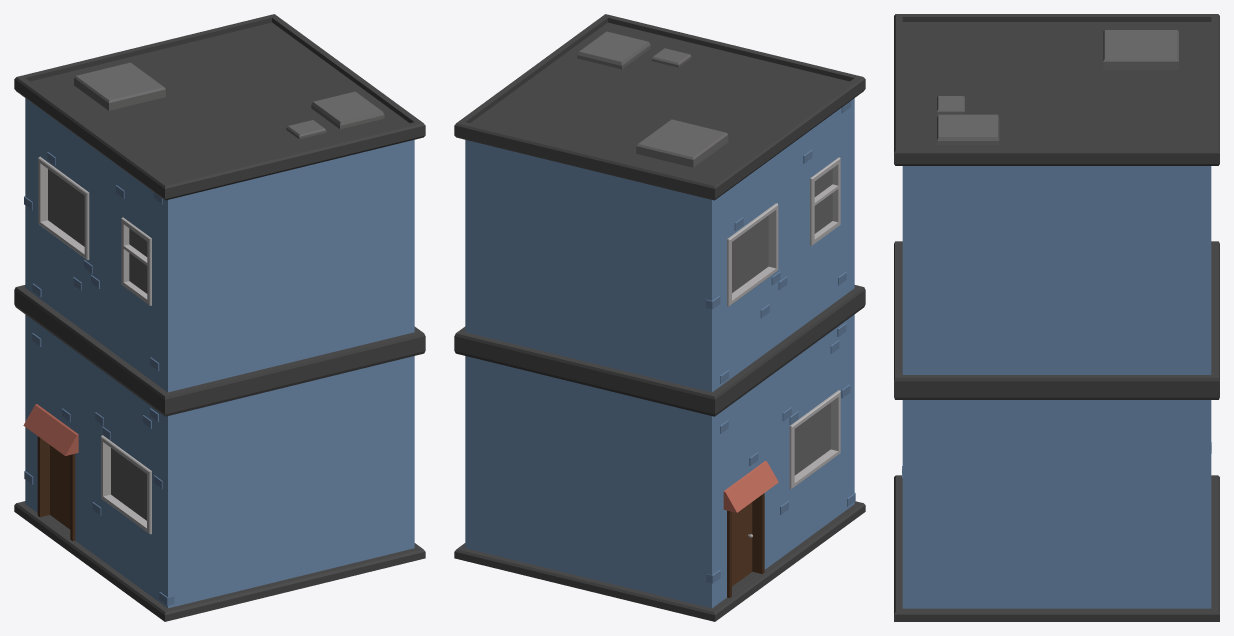
The model's file is City_Building2.fbx.
3 views of the same model, side by side, from view 1: azimuth 30°, elevation 25°; view 2: azimuth 150°, elevation 25°; view 3: azimuth 270°, elevation 25° (orthographic). The views are drawn at different scales.
Parts seen in each view (by area): view 1: House_2; view 2: House_2; view 3: House_2.
Boxes of the visible parts, <box> form: House_2: <box>14,14,425,621</box>; House_2: <box>454,14,865,621</box>; House_2: <box>894,14,1219,621</box>.
Bounding box in the file's own units: 6.5 × 10.23 × 6.34.
